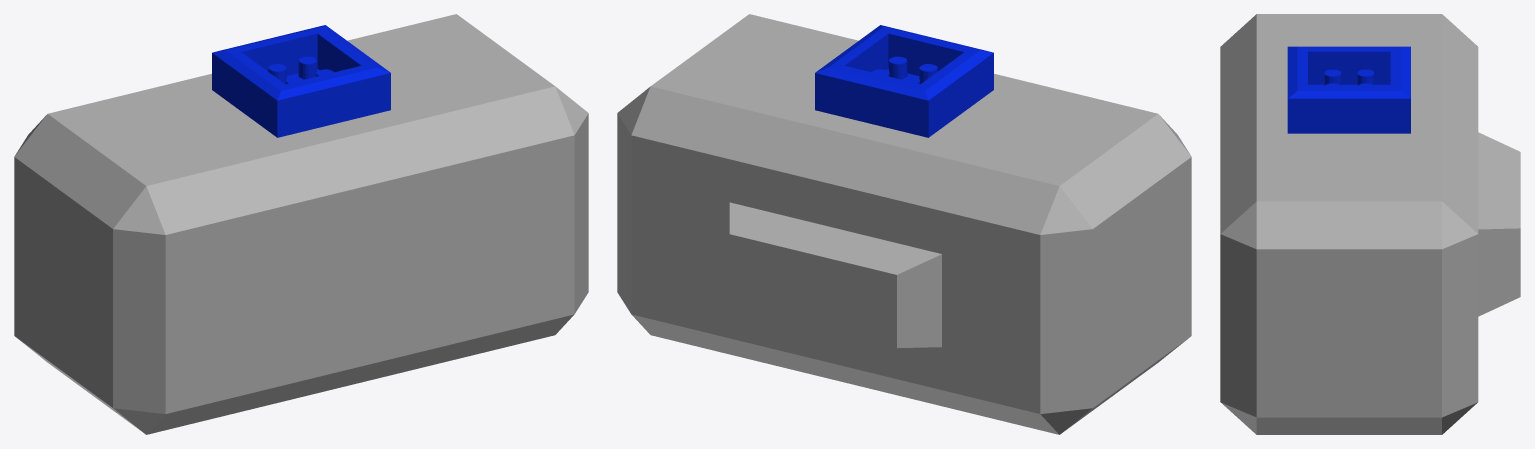
Rendered from Altimeter.gltf.
3 renders of one model, left to right at view 1: azimuth 30°, elevation 25°; view 2: azimuth 150°, elevation 25°; view 3: azimuth 270°, elevation 25°, orthographic. The views are drawn at different scales.
Visible parts, largest first — view 1: Cube; view 2: Cube; view 3: Cube.
Boxes of the visible parts, x1=… form: Cube: x1=14, y1=14, x2=588, y2=434; Cube: x1=617, y1=14, x2=1191, y2=434; Cube: x1=1220, y1=14, x2=1520, y2=434.
Size of the model in its own units: 0.25 by 0.1456 by 0.1455.
